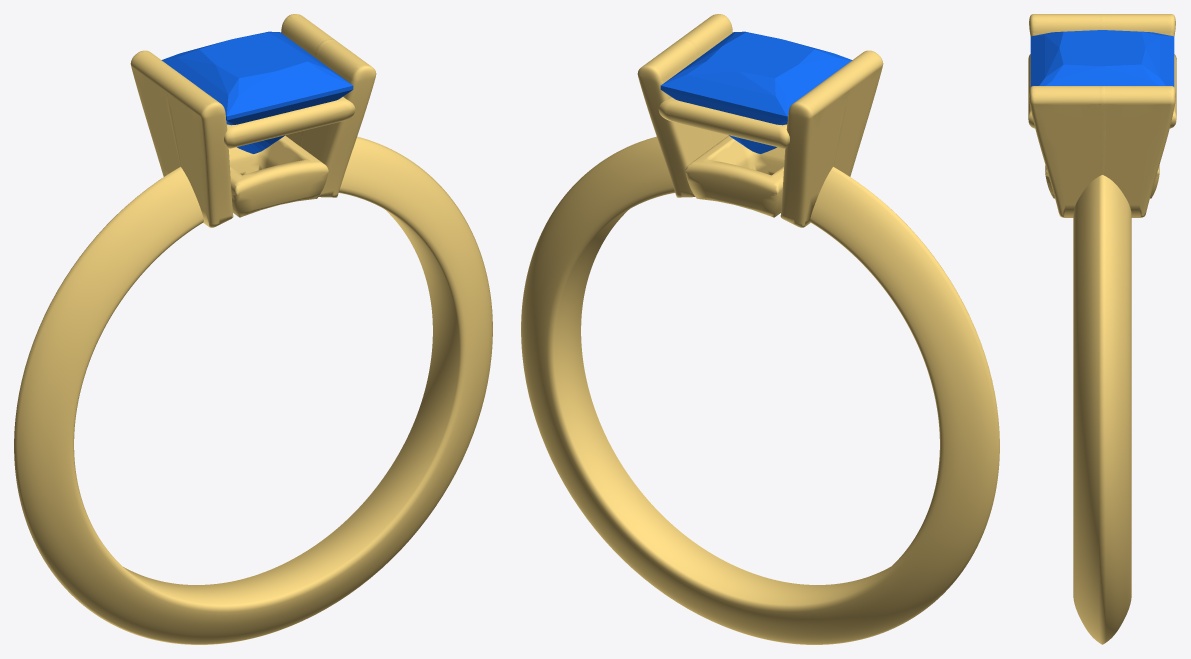
Rendered from bluesapphire-princess-yellowgold-halfmoonbezel-knifeedge-solitaire.glb.
The picture shows the model from 3 angles, left to right: view 1: azimuth 30°, elevation 25°; view 2: azimuth 150°, elevation 25°; view 3: azimuth 270°, elevation 25°; orthographic projection. The views are drawn at different scales.
Parts seen in each view (by area): view 1: metal, stone; view 2: metal, stone; view 3: metal, stone.
Part boxes in pixels (box(x1,y1,x2,y2)): metal: box(14, 14, 492, 644); stone: box(161, 31, 353, 153); metal: box(521, 14, 999, 644); stone: box(660, 31, 852, 153); metal: box(1028, 14, 1176, 644); stone: box(1030, 30, 1174, 86).
Bounding box in the file's own units: 20.51 × 23.85 × 5.6.
